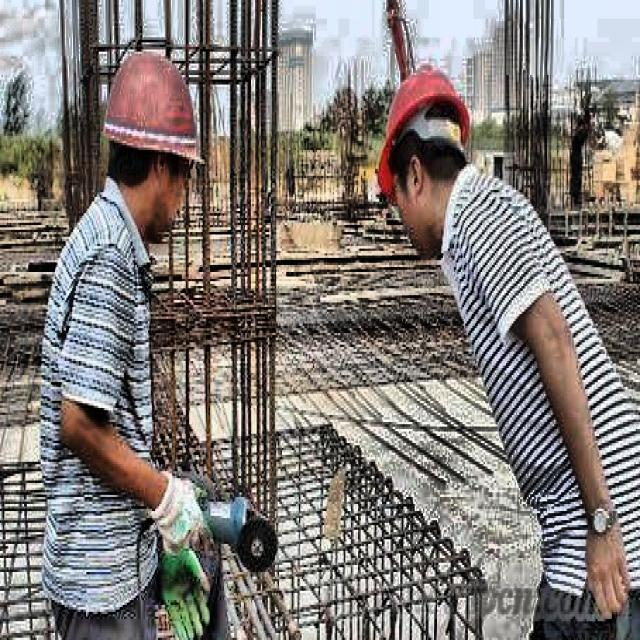helmet: (93, 40, 214, 248), (362, 56, 477, 237)
